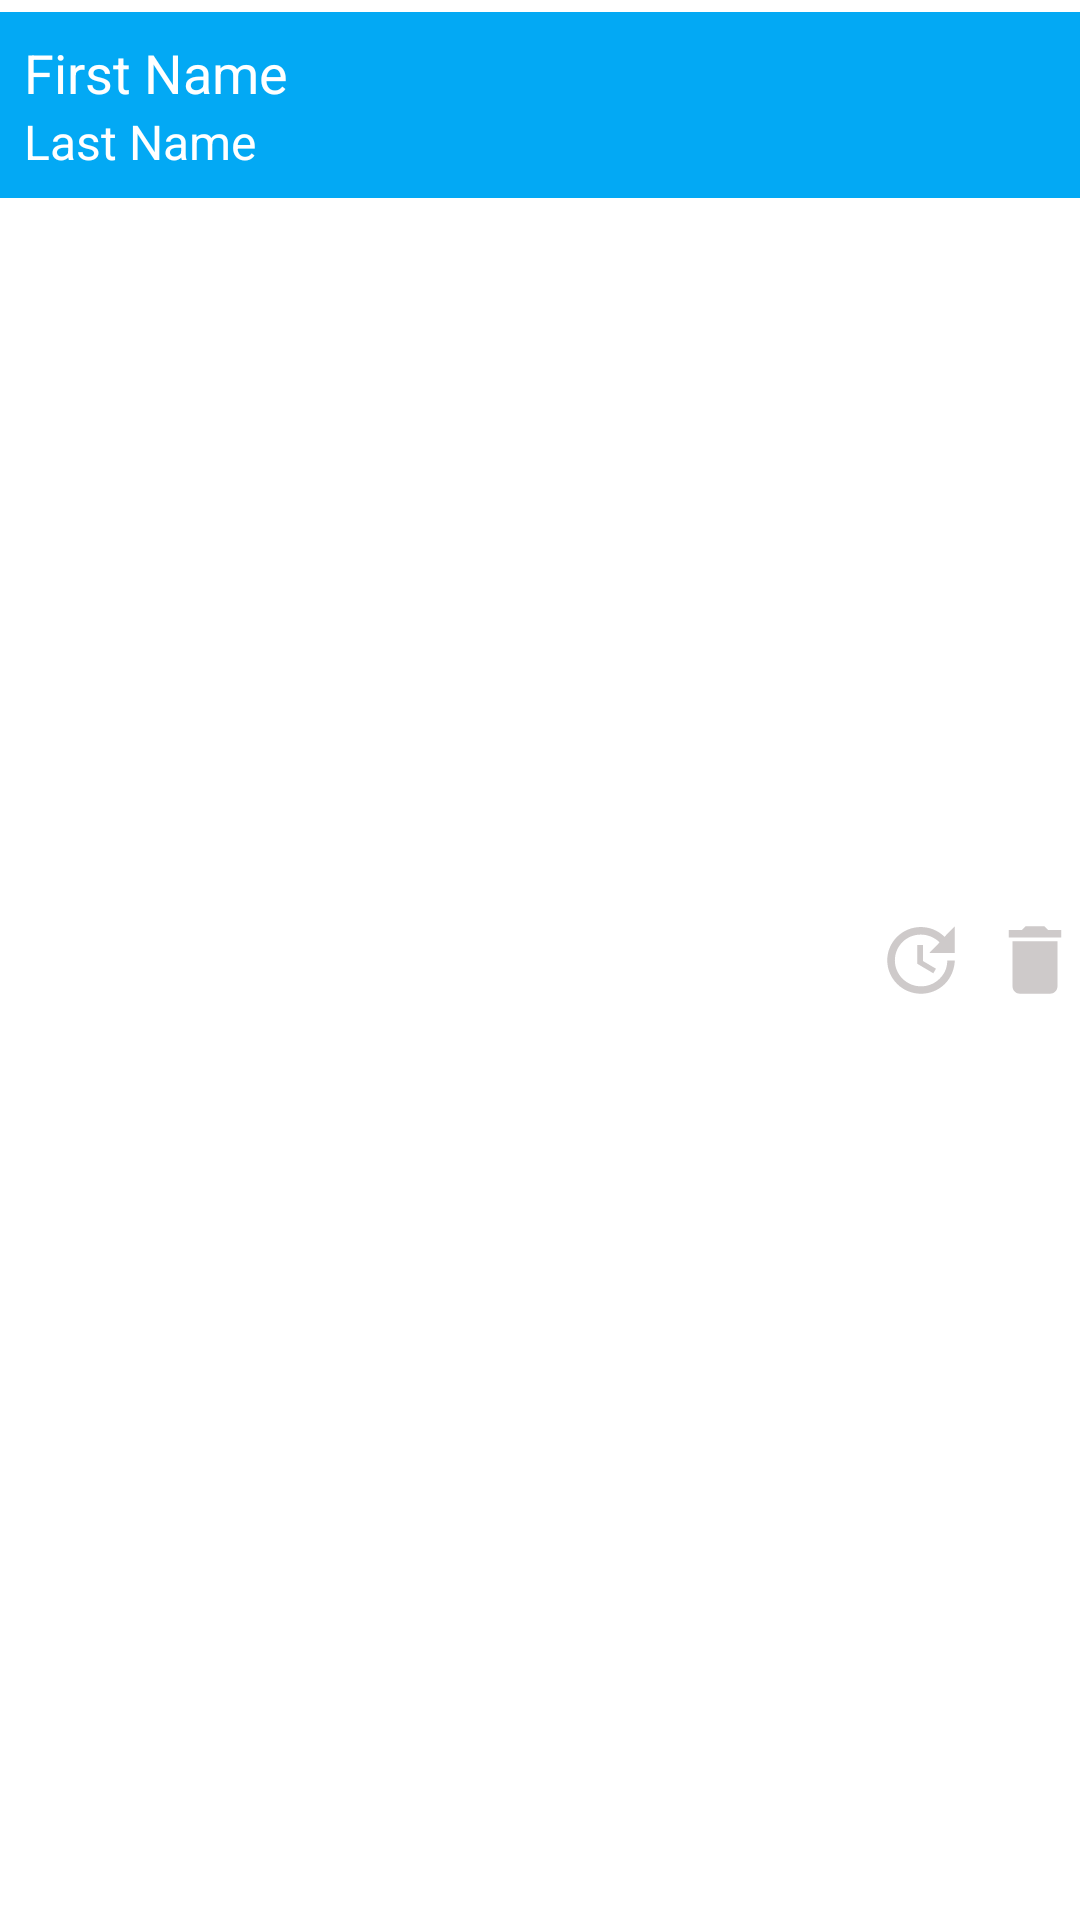

Locate icon controls on the screen. Image size 1080*1920, boxes as [x1,y1,x2,y2].
delete: [1009,926,1061,994]
update: [887,927,955,994]
